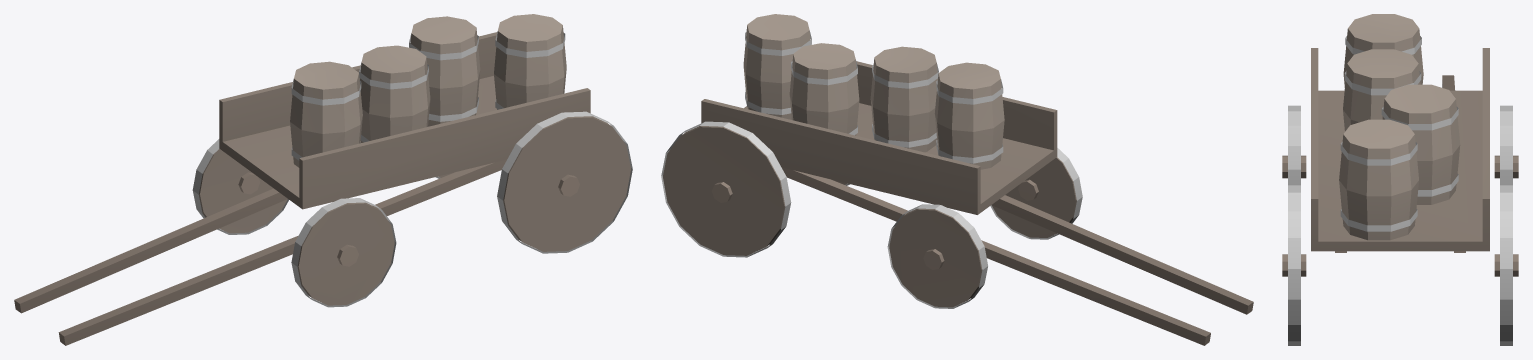
Rendered from wagon_2.glb.
The picture shows the model from 3 angles, left to right: view 1: azimuth 30°, elevation 25°; view 2: azimuth 150°, elevation 25°; view 3: azimuth 270°, elevation 25°; orthographic projection. The views are drawn at different scales.
Parts seen in each view (by area): view 1: wagon_2; view 2: wagon_2; view 3: wagon_2.
Part boxes in pixels (<box>): wagon_2: <box>14,14,632,345</box>; wagon_2: <box>661,14,1253,345</box>; wagon_2: <box>1282,14,1518,345</box>.
Size of the model in its own units: 5.63 by 1.91 by 1.98.
